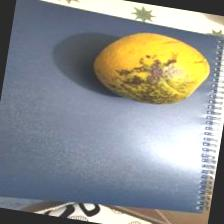Orange Rotten: (81, 14, 224, 127)
